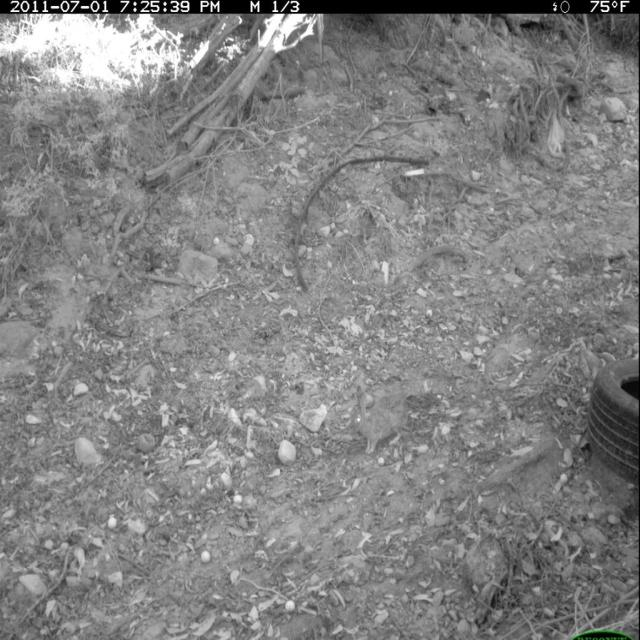rabbit: (346, 376, 415, 466)
